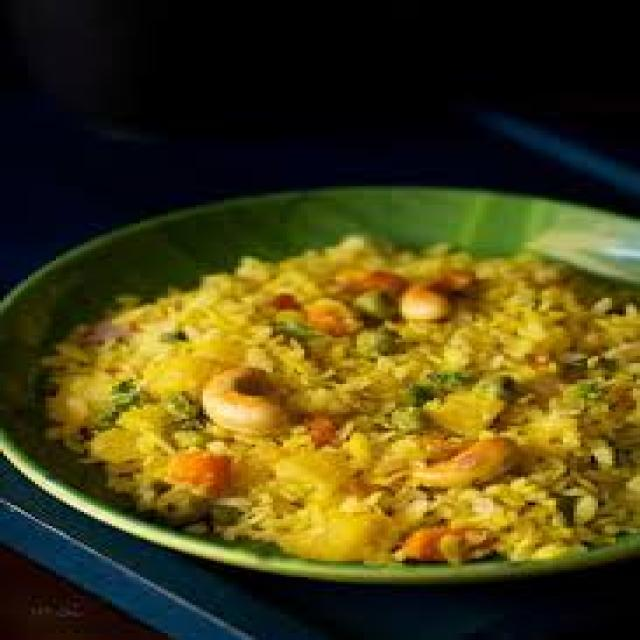POHA: (3, 235, 637, 568)
